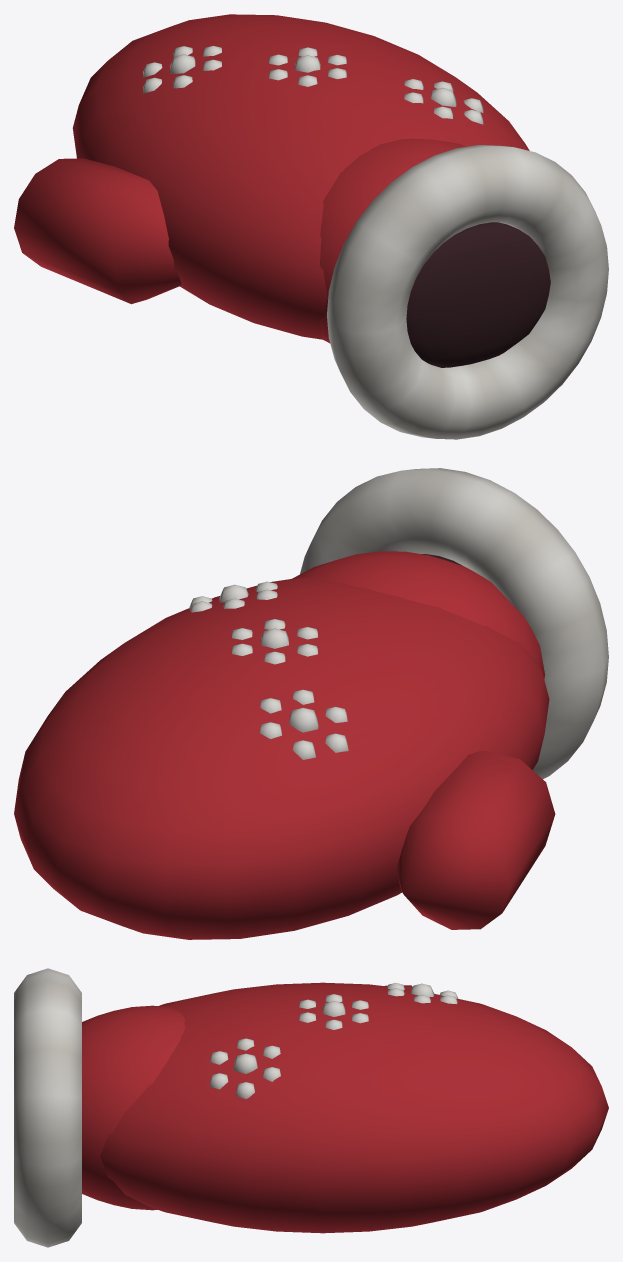
Rendered from Xmas_Mitten.fbx.
3 views of the same model, one above another, from view 1: azimuth 30°, elevation 25°; view 2: azimuth 150°, elevation 25°; view 3: azimuth 270°, elevation 25° (orthographic). The views are drawn at different scales.
Parts seen in each view (by area): view 1: Xmas_Mitten; view 2: Xmas_Mitten; view 3: Xmas_Mitten.
Part boxes in pixels (x1,y1,x2,y2): Xmas_Mitten: (14,14,608,439); Xmas_Mitten: (14,468,608,939); Xmas_Mitten: (14,968,608,1247).
Size of the model in its own units: 8.15 by 5.1 by 10.82.
